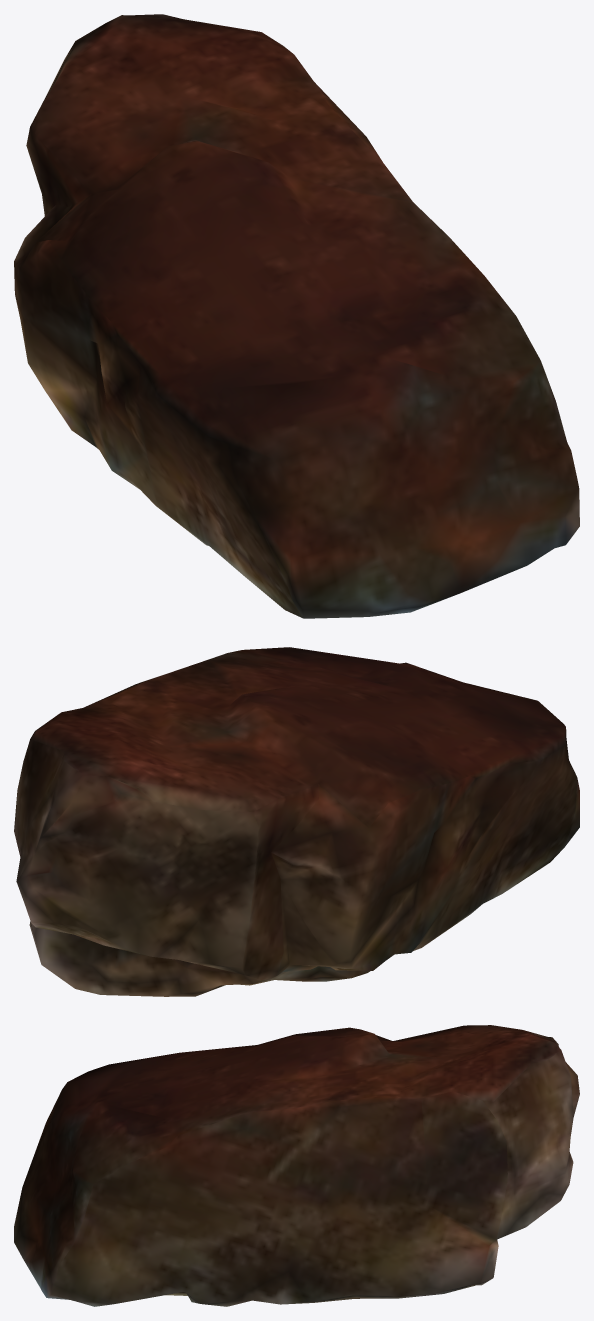
Rendered from rock_07.glb.
The picture shows the model from 3 angles, top to bottom: view 1: azimuth 30°, elevation 25°; view 2: azimuth 150°, elevation 25°; view 3: azimuth 270°, elevation 25°; orthographic projection. The views are drawn at different scales.
Visible parts, largest first — view 1: rock_07; view 2: rock_07; view 3: rock_07.
Part boxes in pixels (<box>): rock_07: <box>14,14,579,618</box>; rock_07: <box>14,647,579,996</box>; rock_07: <box>14,1025,579,1306</box>.
Bounding box in the file's own units: 0.1672 × 0.1434 × 0.3194.
1 material, 1 textured.
